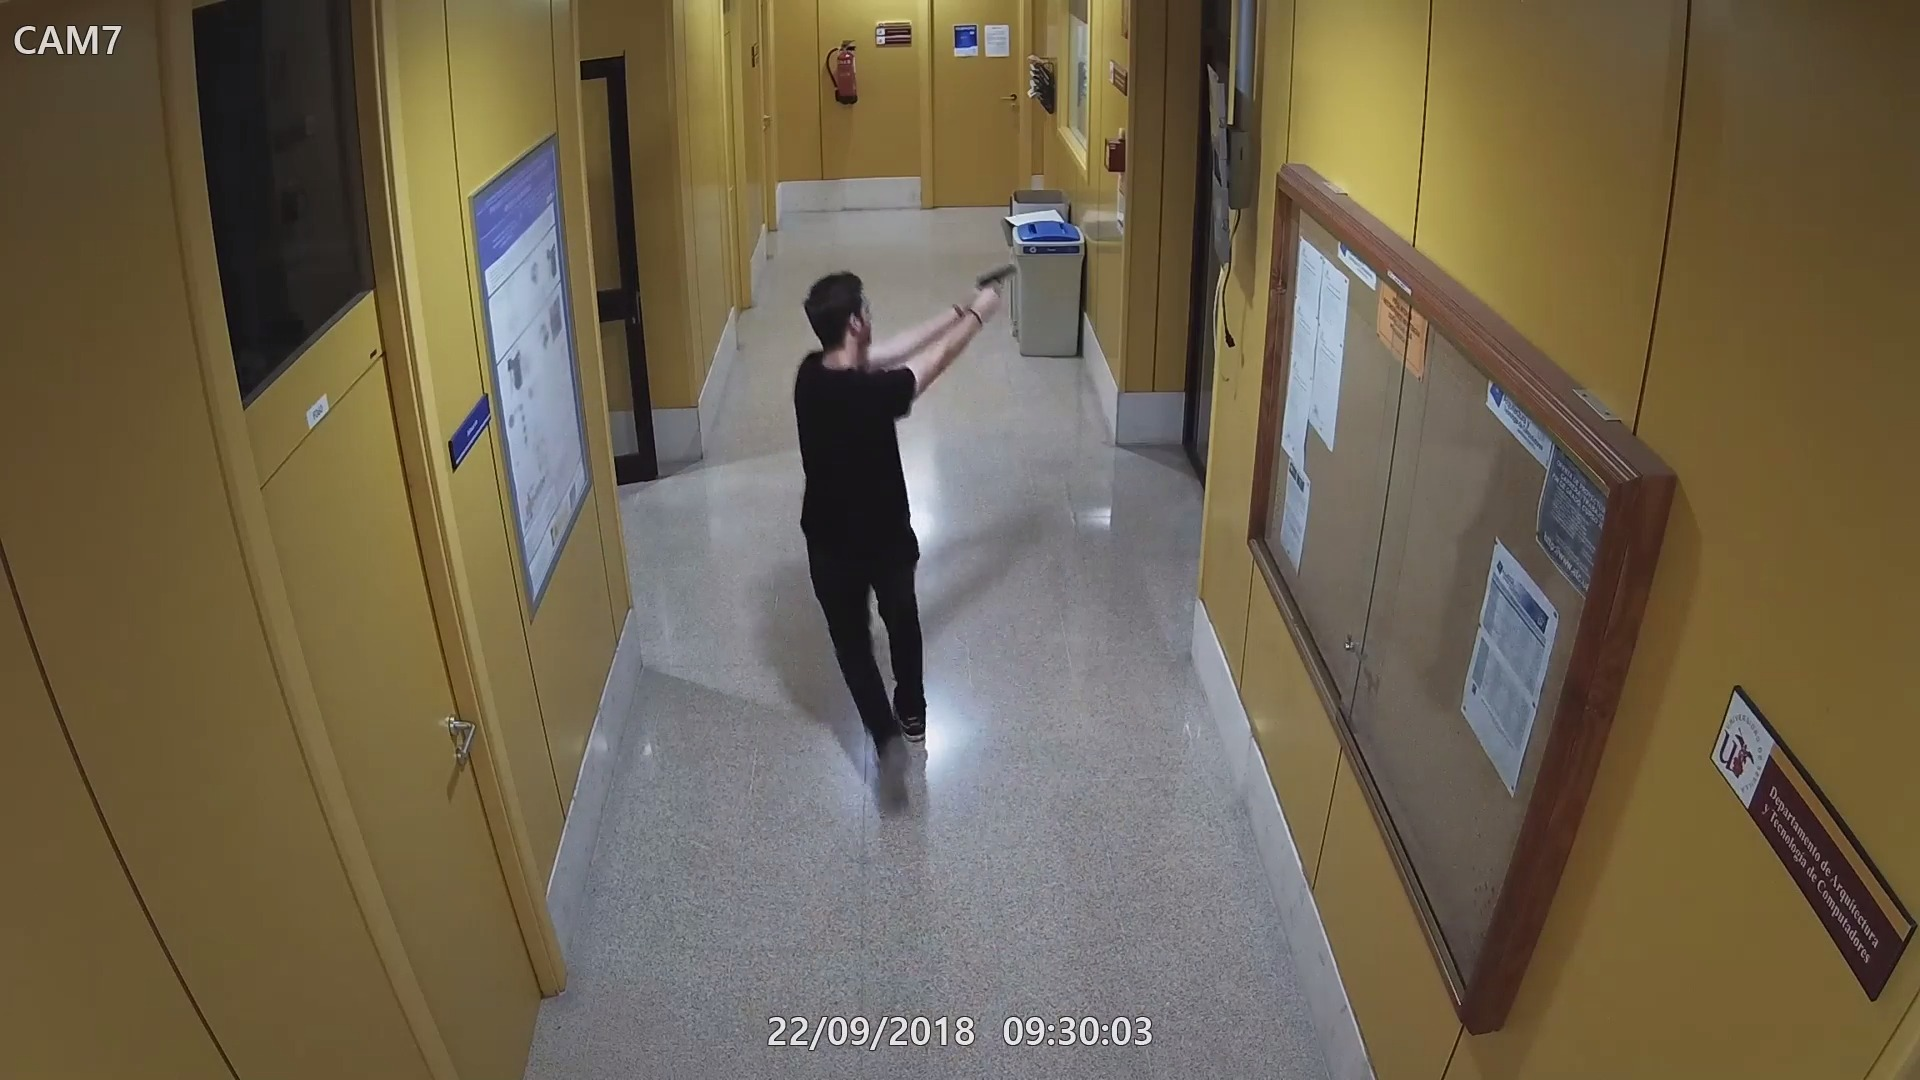Handgun: (957, 258, 1022, 323)
